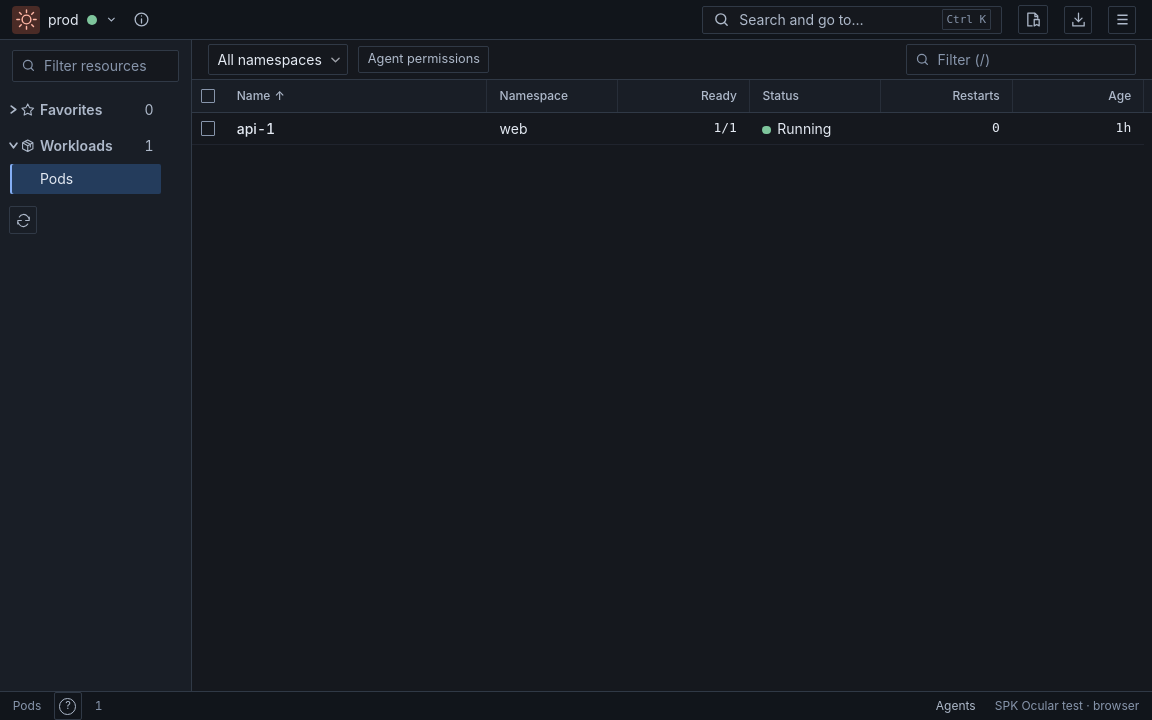
Workspace details and state › a relation that cannot be pinned down is named, not a link
Click the text "api-1".
click(256, 128)  # box [237, 120, 275, 137]
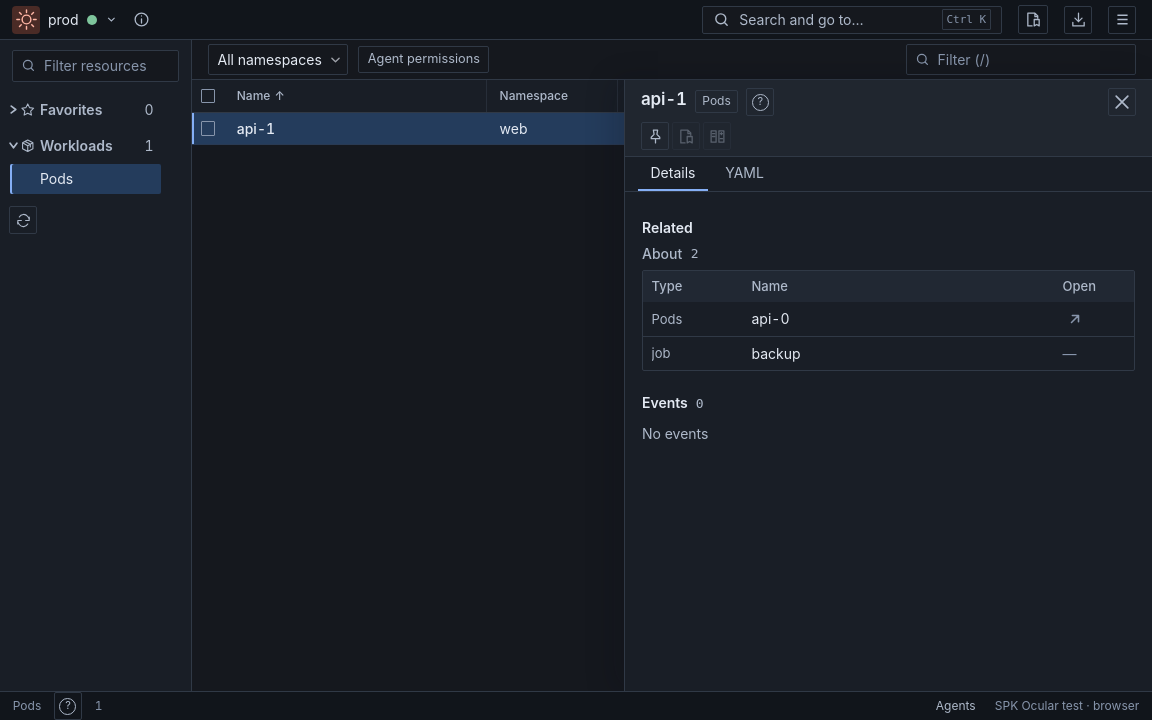
Expected: the button named "pods/api-0" is shown, [1062, 306, 1088, 332]
Expected: the text "About" is shown, [642, 245, 682, 262]
